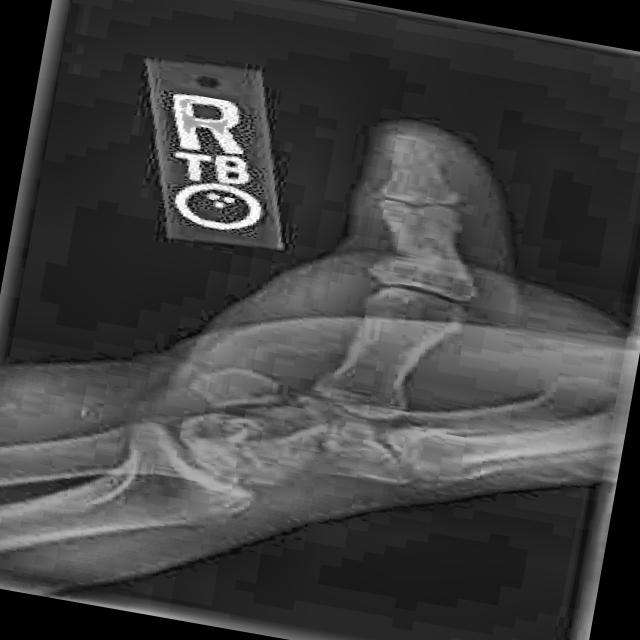fingers positive: (377, 234, 494, 295), (379, 135, 459, 176)
